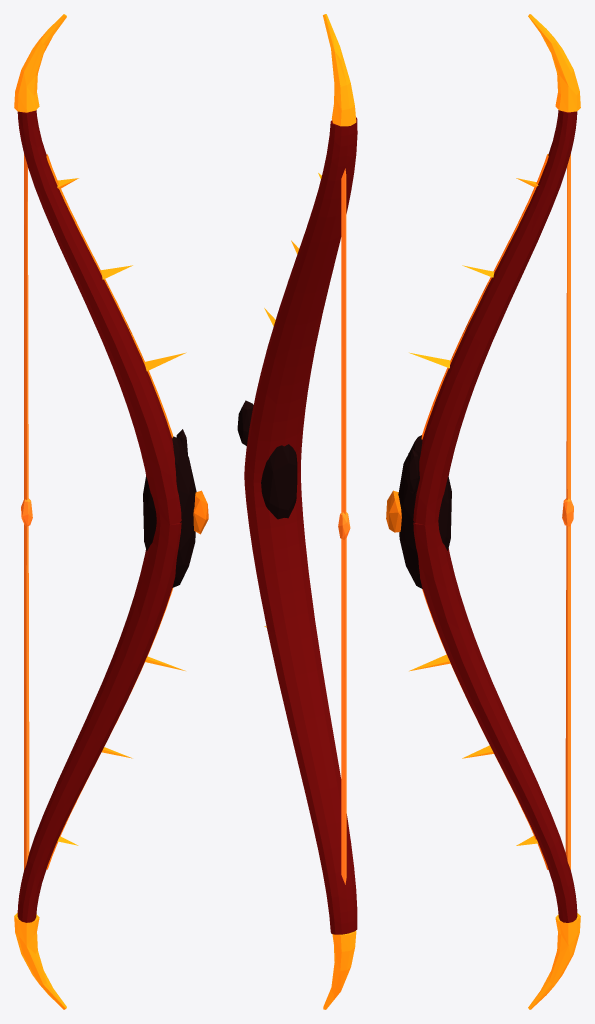
Rendered from bow_4.glb.
3 views of the same model, side by side, from view 1: azimuth 90°, elevation 25°; view 2: azimuth 210°, elevation 25°; view 3: azimuth 270°, elevation 25° (orthographic).
Visible parts, largest first — view 1: part_01, part_04, part_07, part_09, part_02, part_05, part_18, part_17; view 2: part_04, part_01, part_07, part_09, part_02, part_05, part_16; view 3: part_01, part_04, part_07, part_09, part_02, part_05, part_18, part_17, part_16.
Part boxes in pixels (x1,y1,x2,y2): part_01: (17,110,181,525); part_04: (17,521,181,922); part_07: (24,154,29,869); part_09: (143,436,196,587); part_02: (14,14,66,112); part_05: (14,913,66,1009); part_18: (46,154,173,437); part_17: (193,490,208,534); part_04: (244,471,357,934); part_01: (244,117,357,482); part_07: (341,168,346,884); part_09: (261,444,297,519); part_02: (323,14,356,126); part_05: (323,931,356,1009); part_16: (237,400,253,445); part_01: (413,110,577,525); part_04: (413,521,577,922); part_07: (565,154,570,869); part_09: (398,435,451,588); part_02: (528,14,580,112); part_05: (528,913,580,1009); part_18: (421,154,548,439); part_17: (386,490,401,532); part_16: (406,449,419,494).
Size of the model in its own units: 0.0745 by 1.29 by 0.2289.
